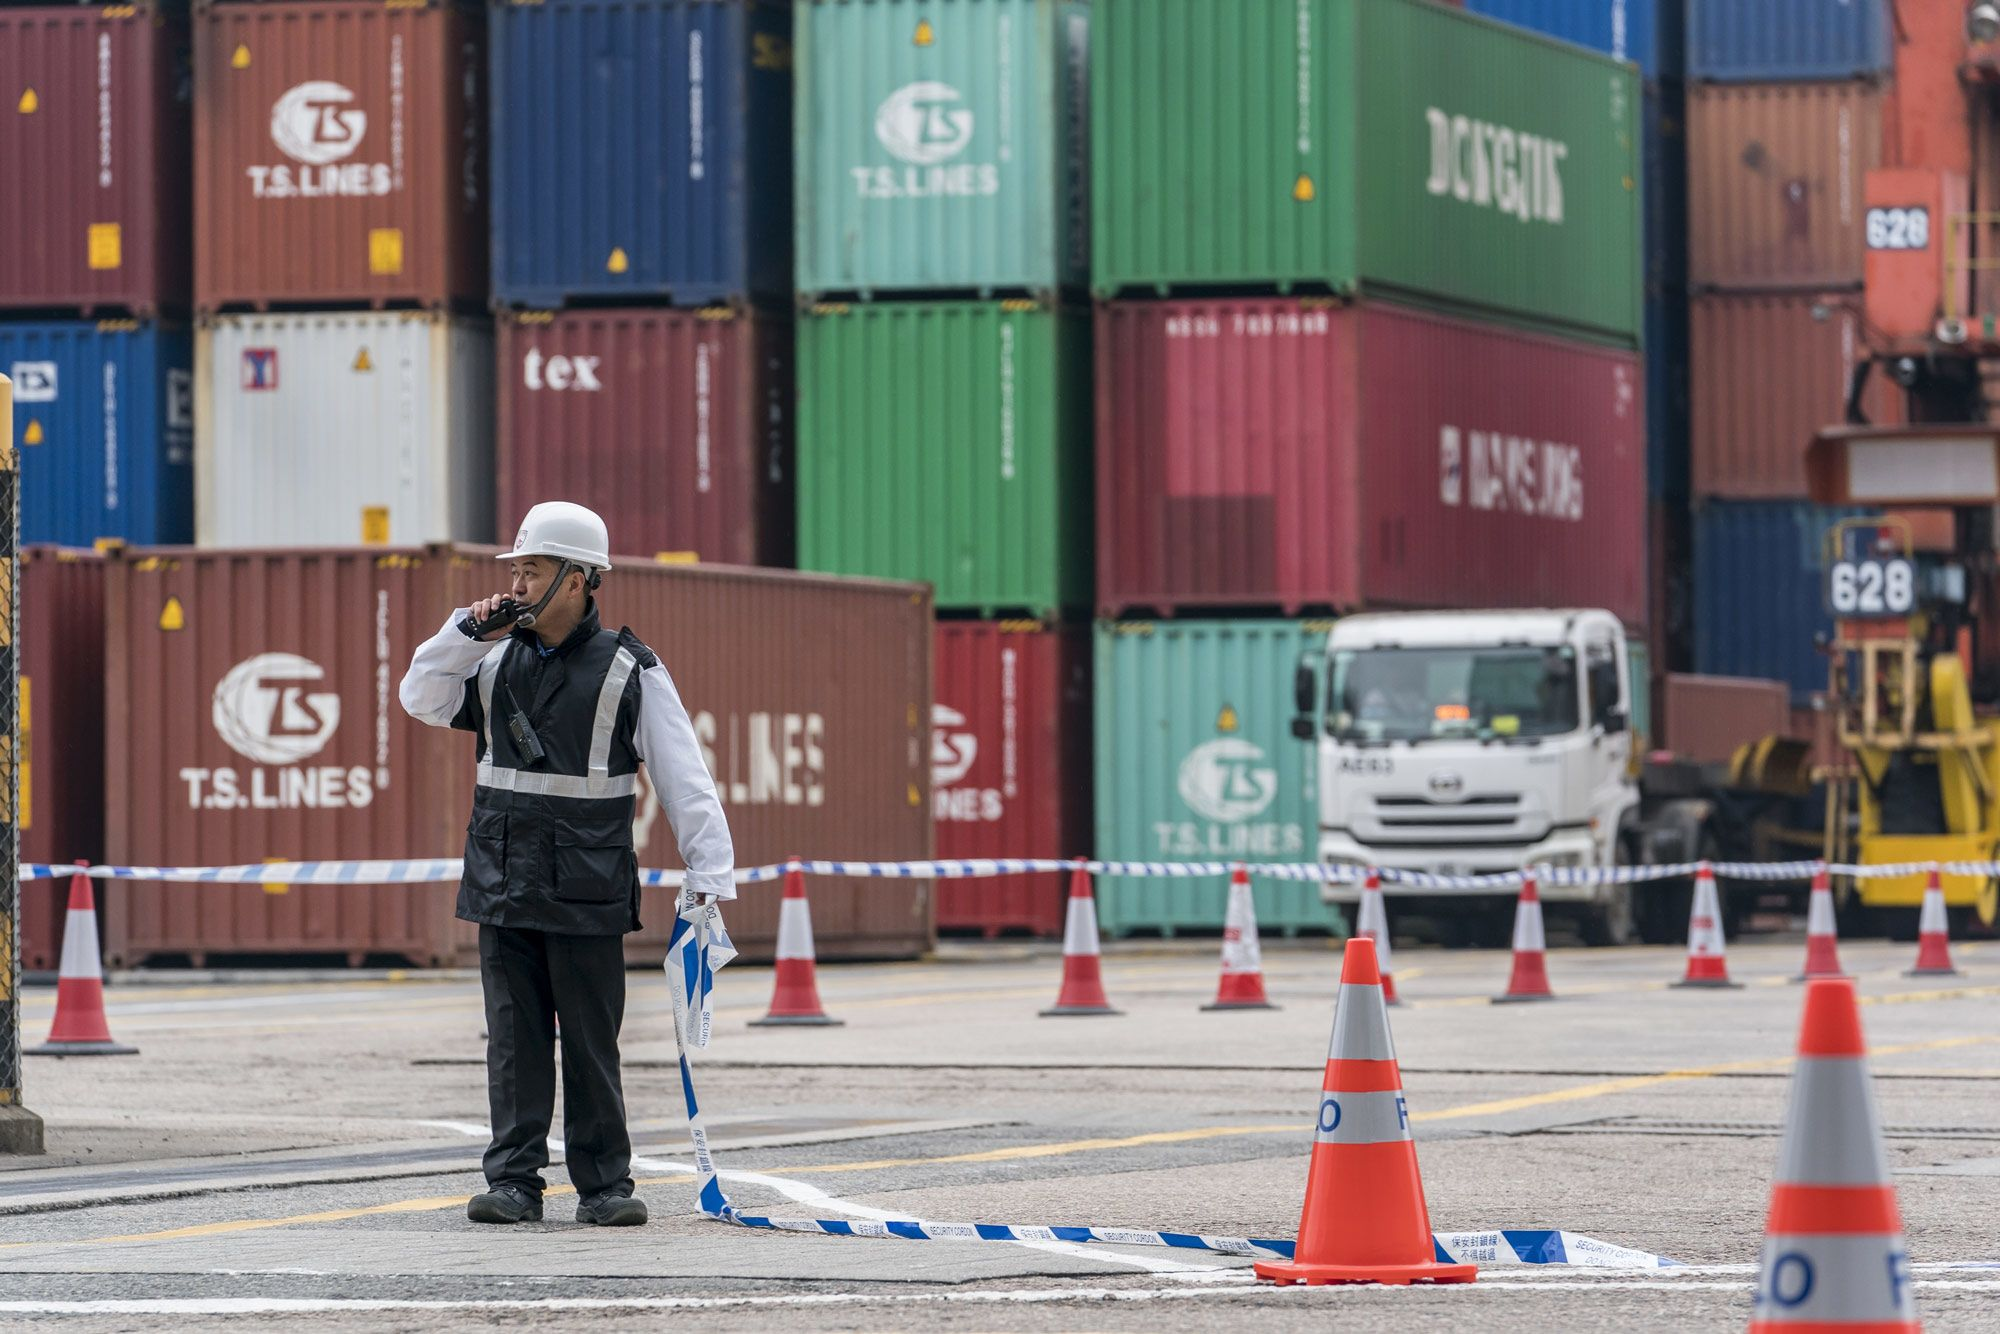container: (104, 537, 937, 969), (1089, 1, 1658, 336), (1097, 299, 1653, 634), (491, 1, 790, 304), (196, 4, 485, 308), (789, 1, 1091, 290), (490, 295, 796, 572), (789, 305, 1062, 609), (1098, 625, 1341, 917), (199, 310, 493, 537), (4, 1, 177, 314), (1693, 491, 1918, 701), (1687, 292, 1915, 494), (1, 548, 101, 992), (946, 612, 1065, 977), (1, 307, 185, 542), (1698, 83, 1888, 287), (1475, 1, 1682, 86), (1687, 1, 1887, 86)
